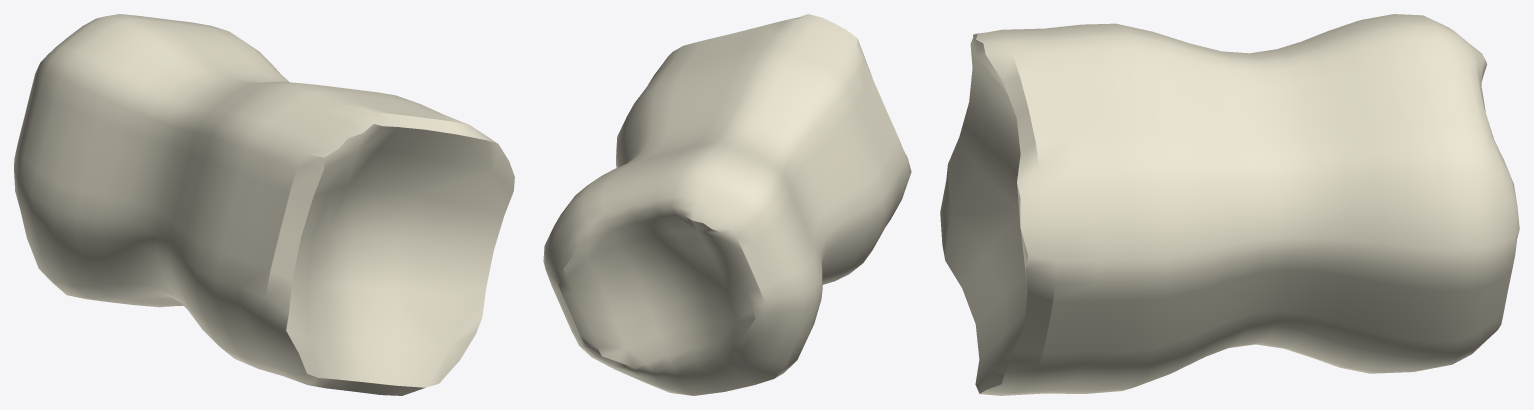
The model's file is Os_BAS Join1.fbx.
3 views of the same model, side by side, from view 1: azimuth 30°, elevation 25°; view 2: azimuth 150°, elevation 25°; view 3: azimuth 270°, elevation 25° (orthographic). The views are drawn at different scales.
Visible parts, largest first — view 1: Os Bras Join.1; view 2: Os Bras Join.1; view 3: Os Bras Join.1.
Boxes of the visible parts, <box> form: Os Bras Join.1: <box>14,14,514,395</box>; Os Bras Join.1: <box>543,14,911,395</box>; Os Bras Join.1: <box>940,14,1519,395</box>.
Bounding box in the file's own units: 226 × 192 × 294.
